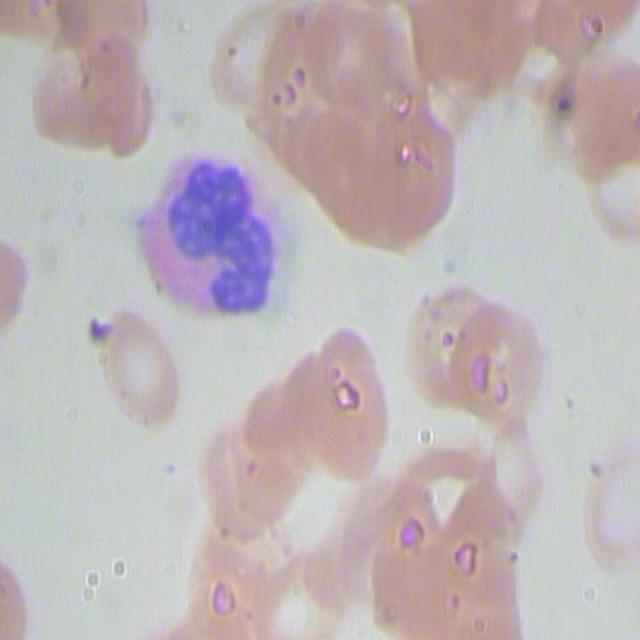RBC: (0, 0, 147, 170), (328, 0, 464, 174), (283, 85, 422, 238), (319, 305, 416, 521), (538, 40, 636, 232), (204, 0, 329, 121), (448, 292, 544, 448), (414, 0, 500, 123), (404, 286, 483, 414), (524, 0, 616, 95)
WBC: (149, 159, 274, 317)
